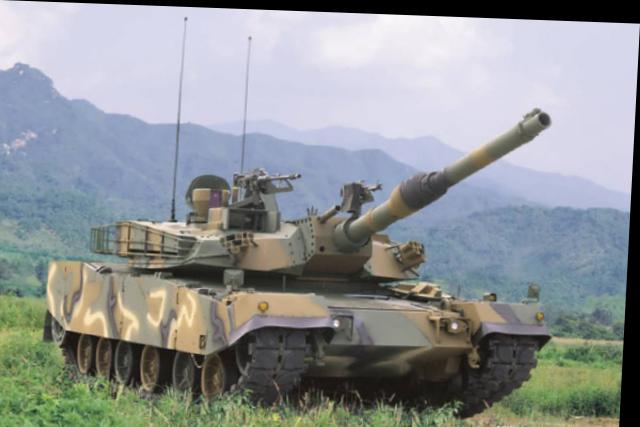tank: (45, 153, 561, 408)
